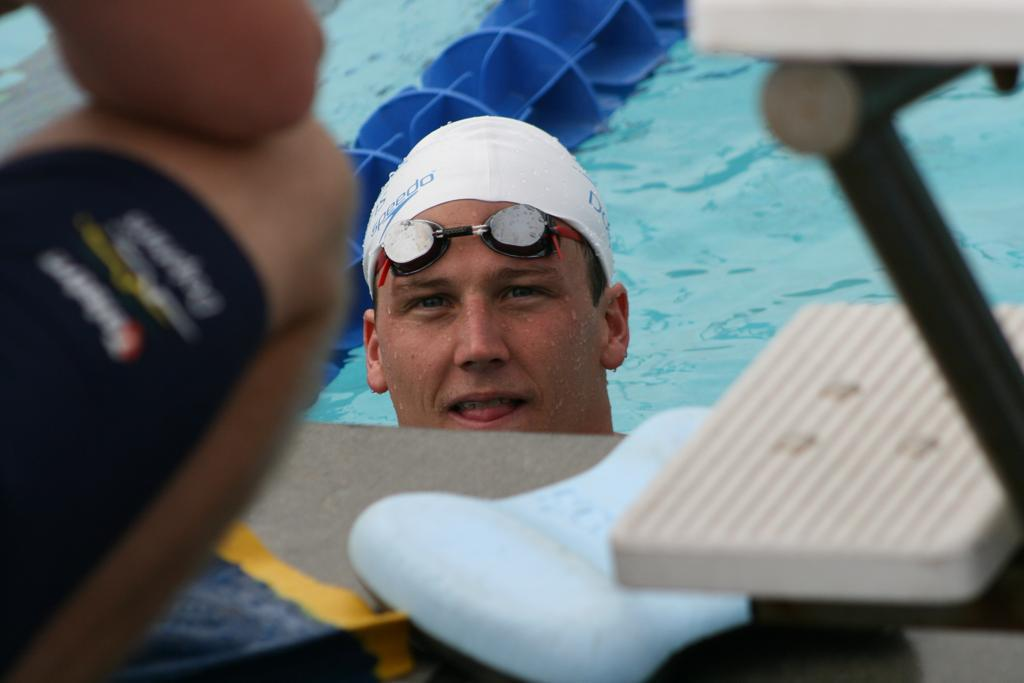face: (383, 229, 599, 485)
